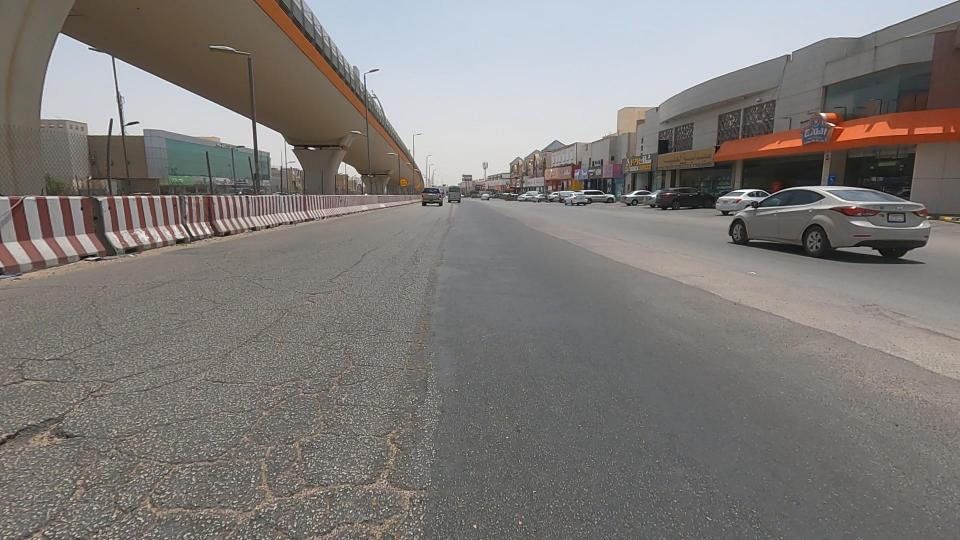CONSTRUCTION_ROAD: (0, 110, 288, 287), (170, 137, 379, 252), (313, 159, 434, 223)
POTHOLES: (122, 315, 418, 540), (0, 284, 202, 540)
